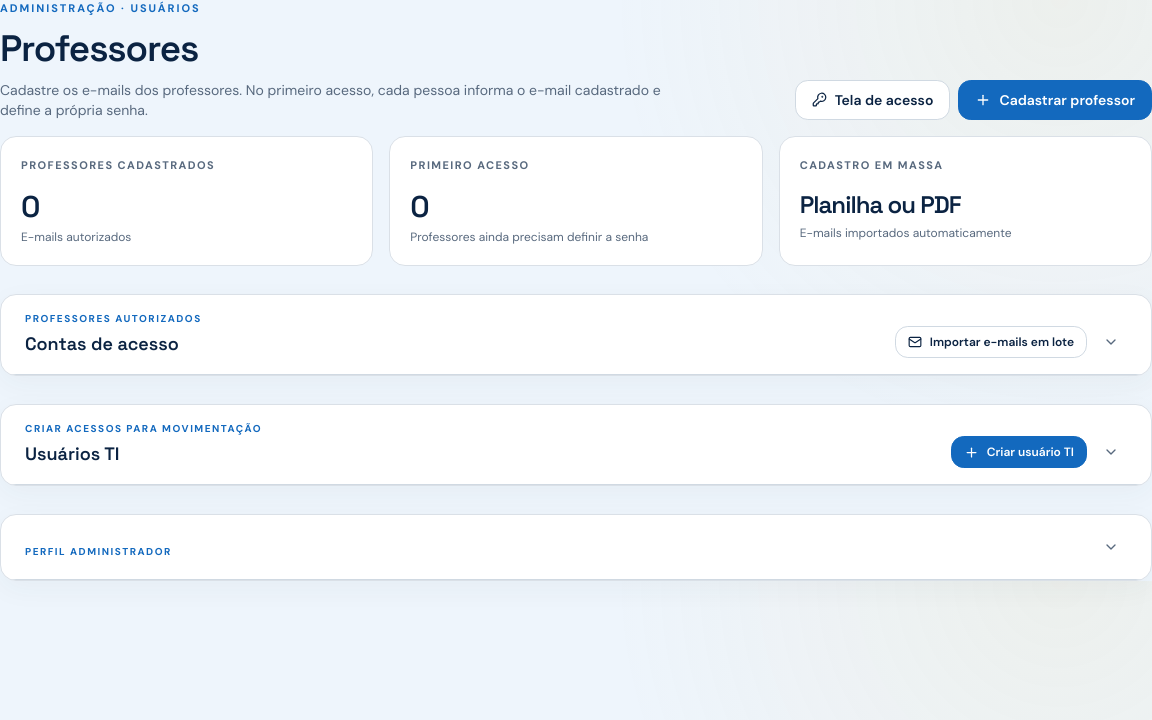
Teacher first access › Staff account creation › creates a TI user by default and makes the administrator option explicit
Step 1. Click the button named "Maximizar Usuários TI" → (1111, 452), box [1095,436,1127,468]
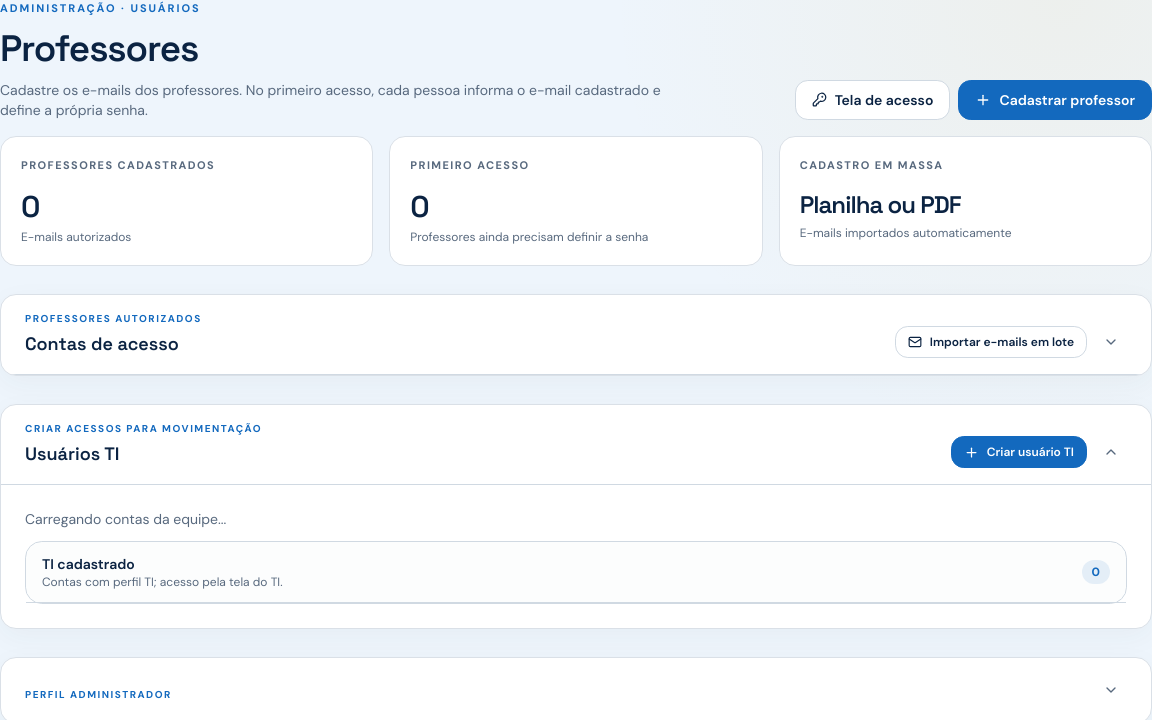
Step 2. Click the button "Criar usuário TI" → (1019, 452), box [951,436,1087,468]
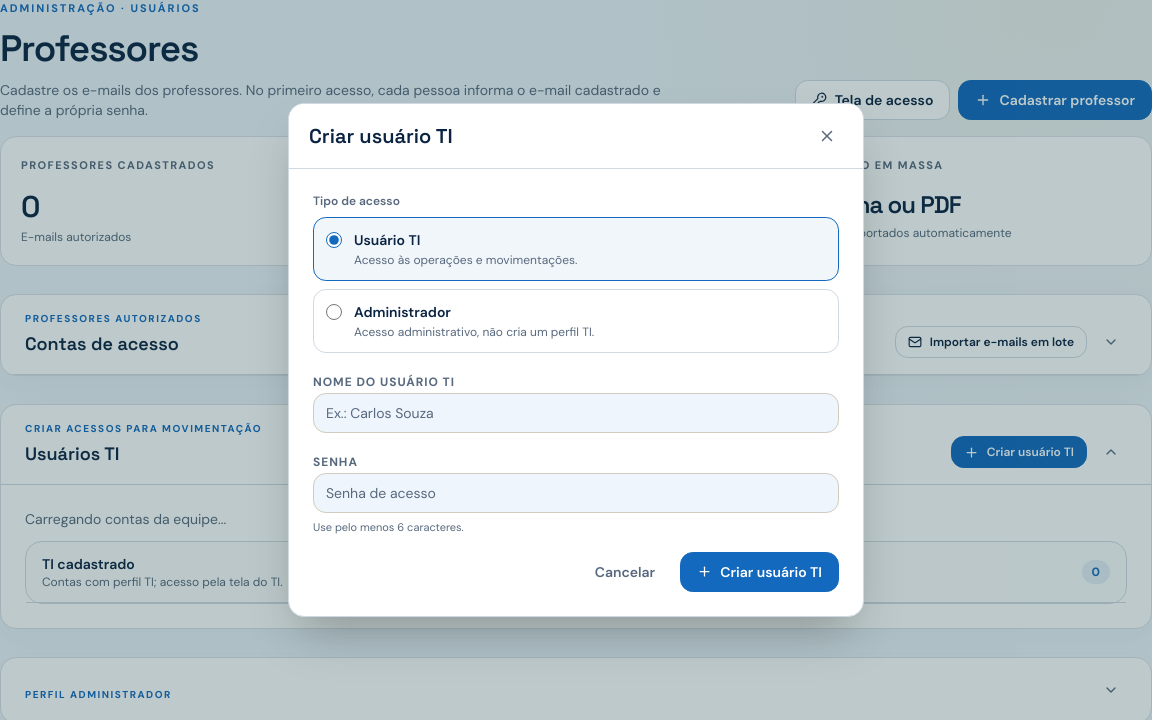
Check: the dialog shows "usuário TI", box [354,231,420,249]
Check: the radio button labelled "Usuário TI Acesso às operações e movimentações." is checked, box [326,232,342,248]
Check: the radio button labelled "Administrador Acesso administrativo, não cria um perfil TI." is not checked, box [326,304,342,320]
Step 3. Type "Novo TI" into the field with test id "input-new-operator-name" → (576, 413), box [313,393,839,433]
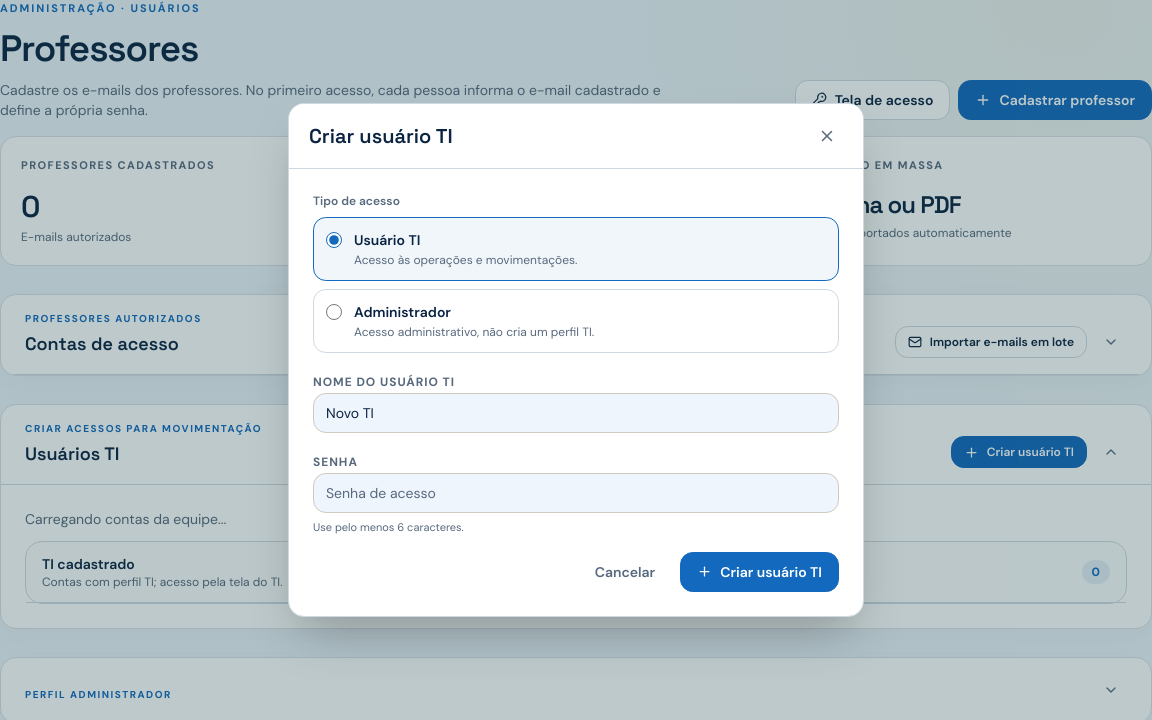
Step 4. Type "senha-segura" into the password field with test id "input-new-operator-password" → (576, 493), box [313,473,839,513]
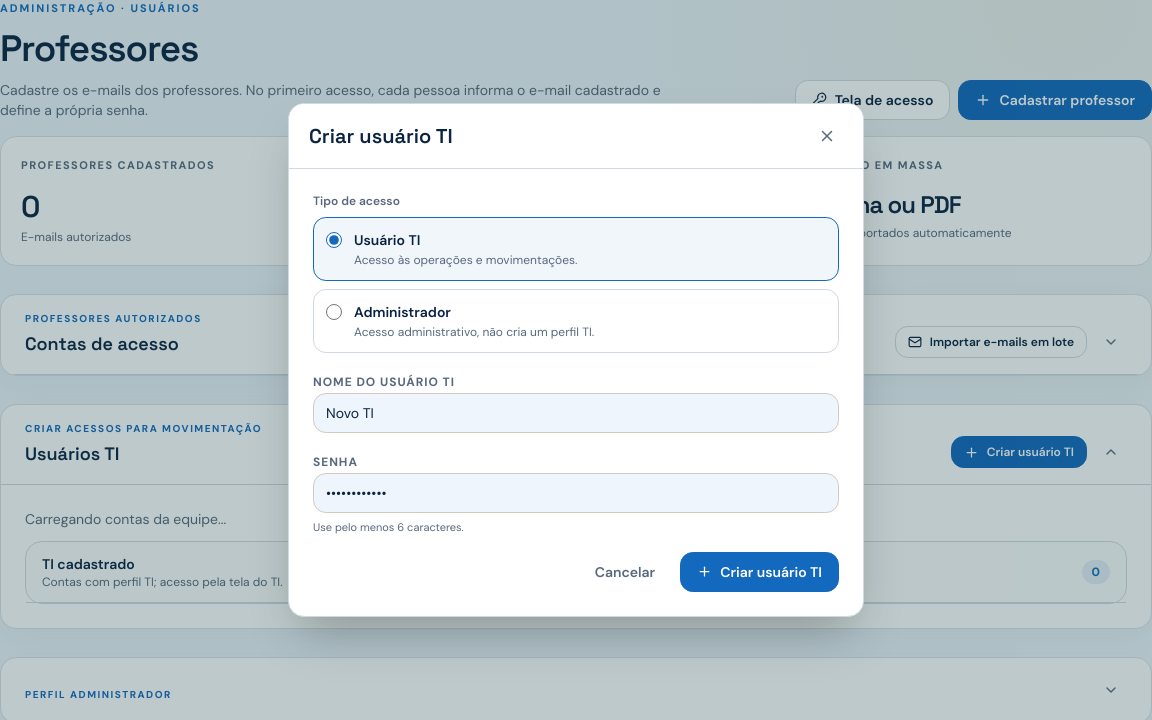
Step 5. Click the button "Criar usuário TI" → (760, 572), box [680,552,839,592]
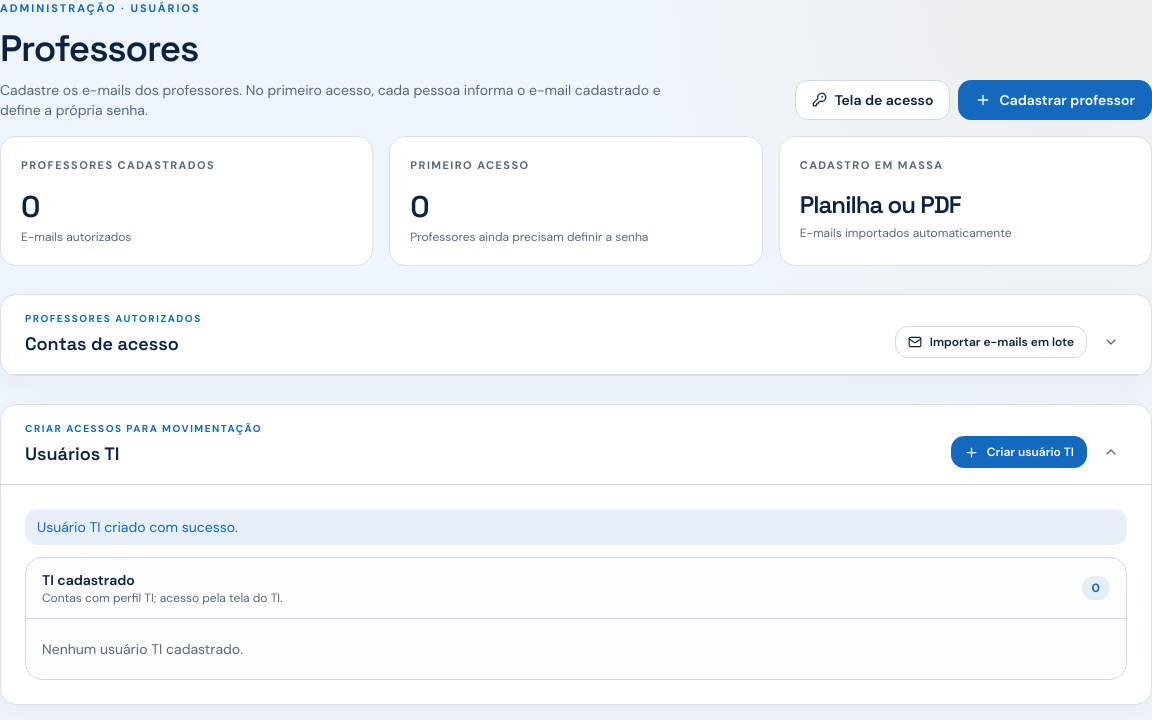
Check: the message reads "Usuário TI criado com sucesso.", box [37,518,238,536]
